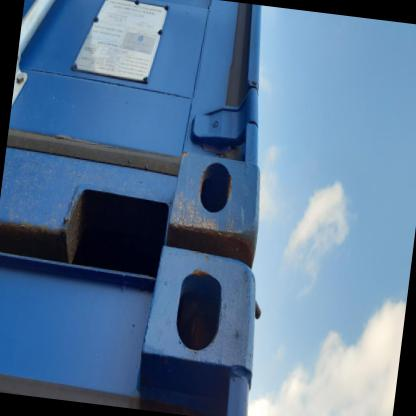CornerCasting: (138, 249, 264, 377), (164, 150, 268, 252)
